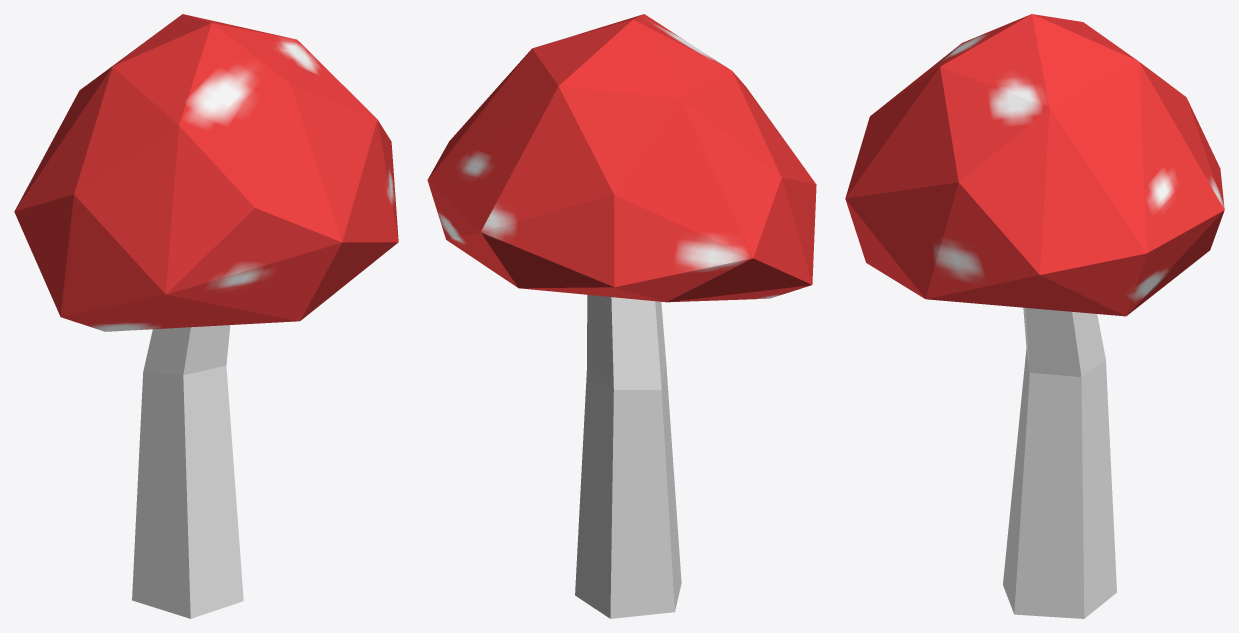
The model's file is Mushroom_e_01.fbx.
3 renders of one model, left to right at view 1: azimuth 30°, elevation 25°; view 2: azimuth 150°, elevation 25°; view 3: azimuth 270°, elevation 25°, orthographic. The views are drawn at different scales.
Parts seen in each view (by area): view 1: Mushroom_e_01; view 2: Mushroom_e_01; view 3: Mushroom_e_01.
Boxes of the visible parts, x1,y1,x2,y2 form: Mushroom_e_01: (14,14,398,618); Mushroom_e_01: (427,14,816,618); Mushroom_e_01: (845,14,1224,618).
Size of the model in its own units: 22.86 by 35.95 by 20.99.
